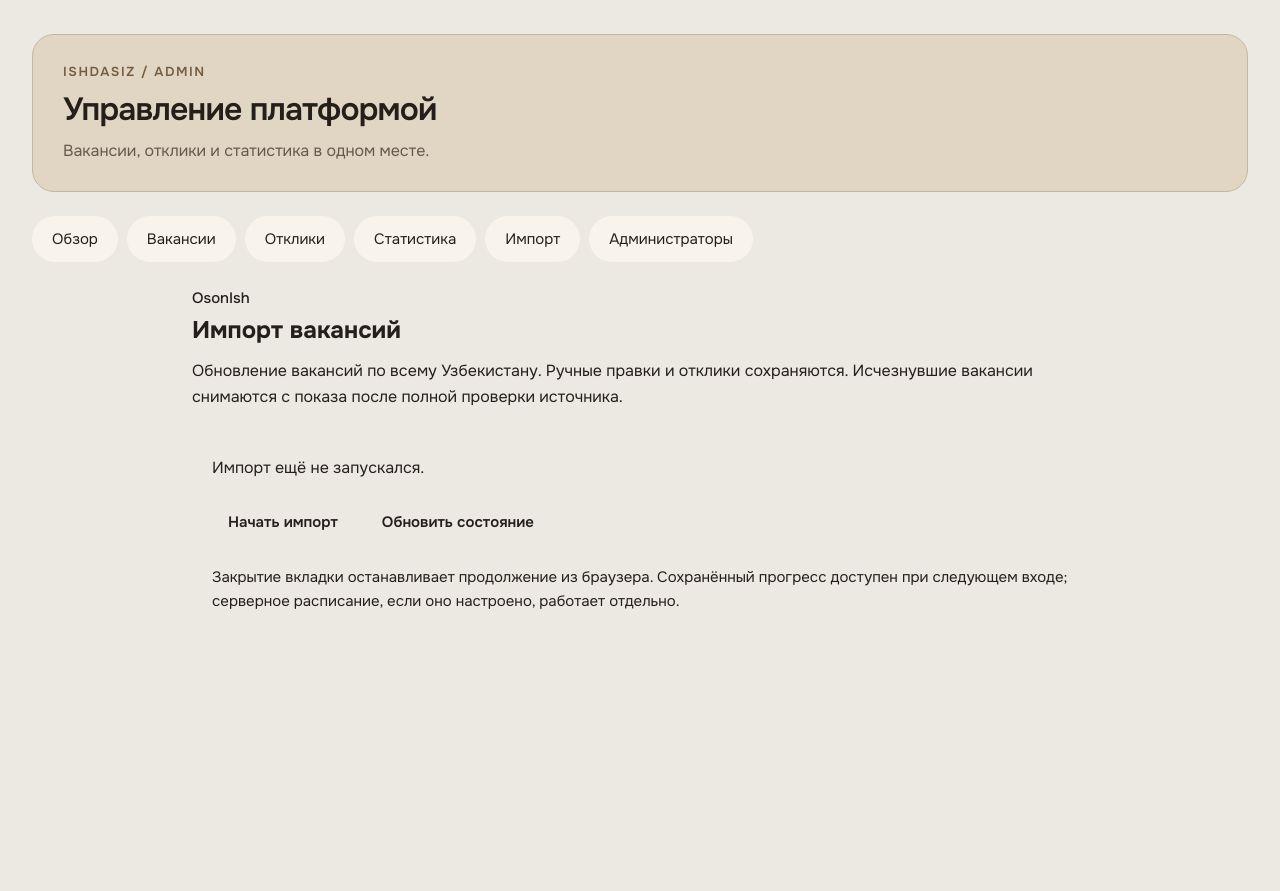
a lost start response retries with the same request identity if no committed run can be read
Click the button "Начать импорт" at (283, 523), box [212, 501, 354, 545]
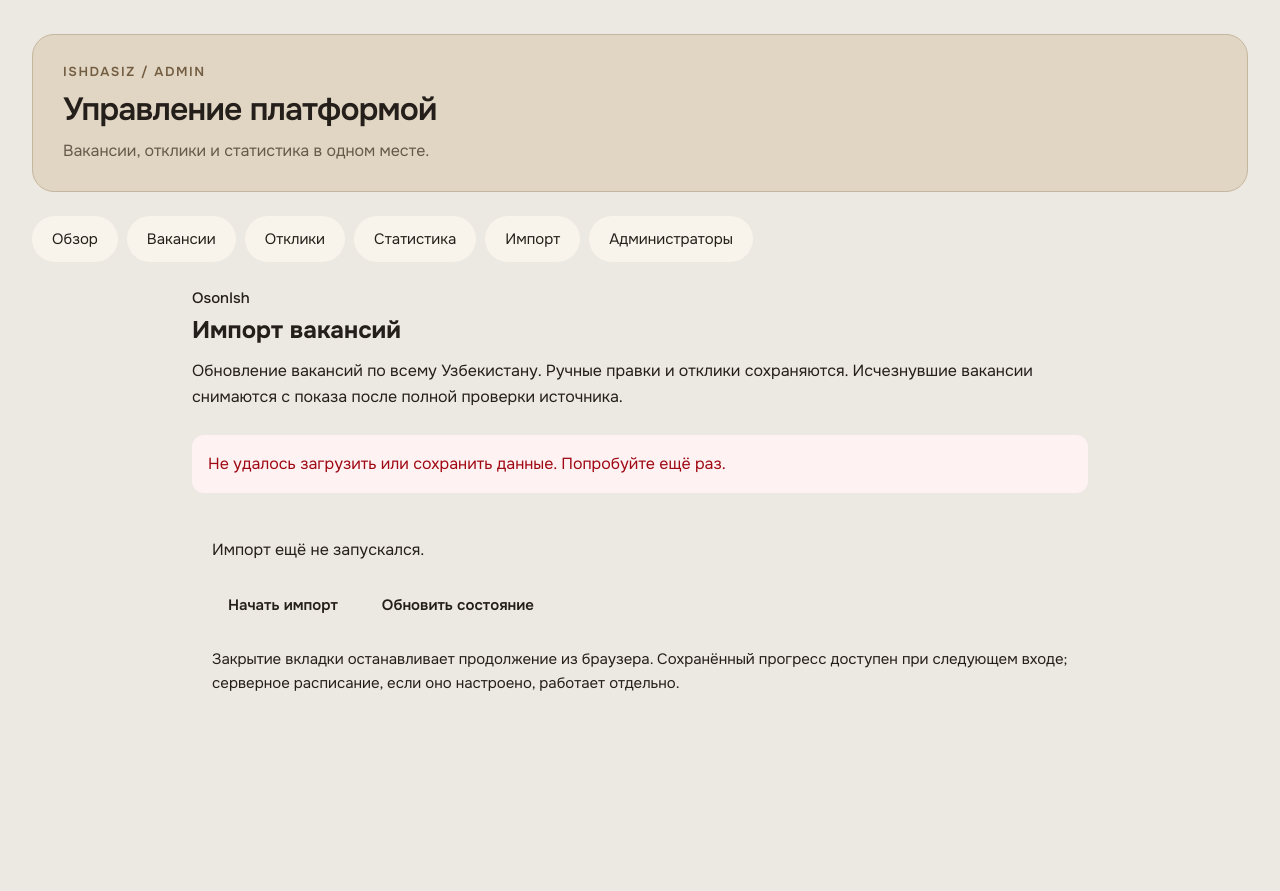
expect the message "Не удалось загрузить или сохранить данные. Попробуйте ещё раз." is shown: met, box [192, 435, 1088, 493]
Click the button "Начать импорт" at (283, 605), box [212, 583, 354, 627]
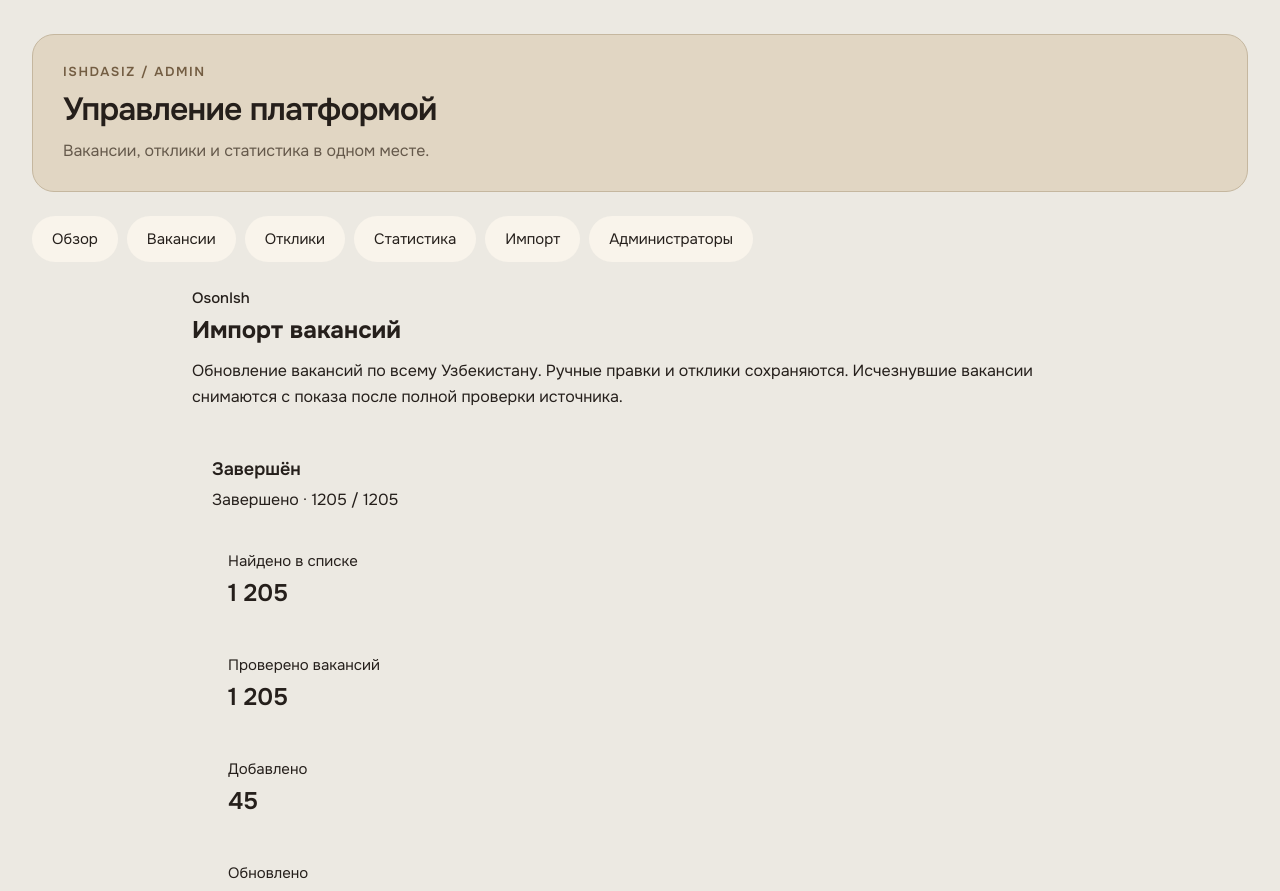
expect the heading "Завершён" is shown: met, box [212, 458, 301, 480]
